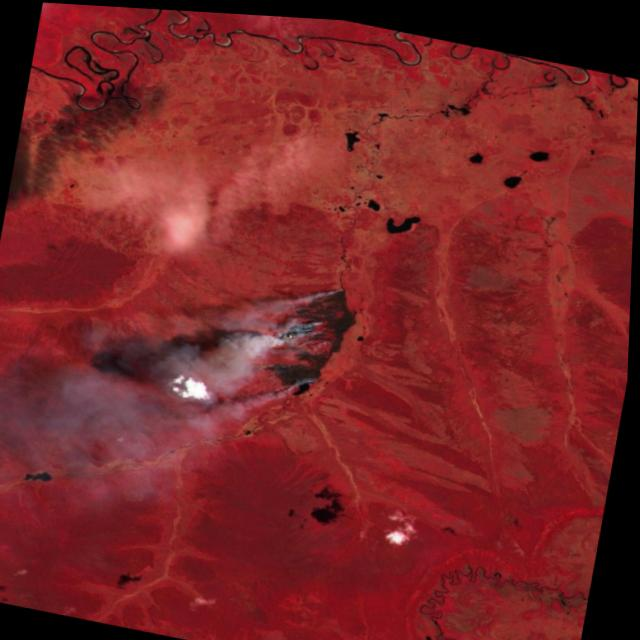fire: (254, 266, 356, 400)
